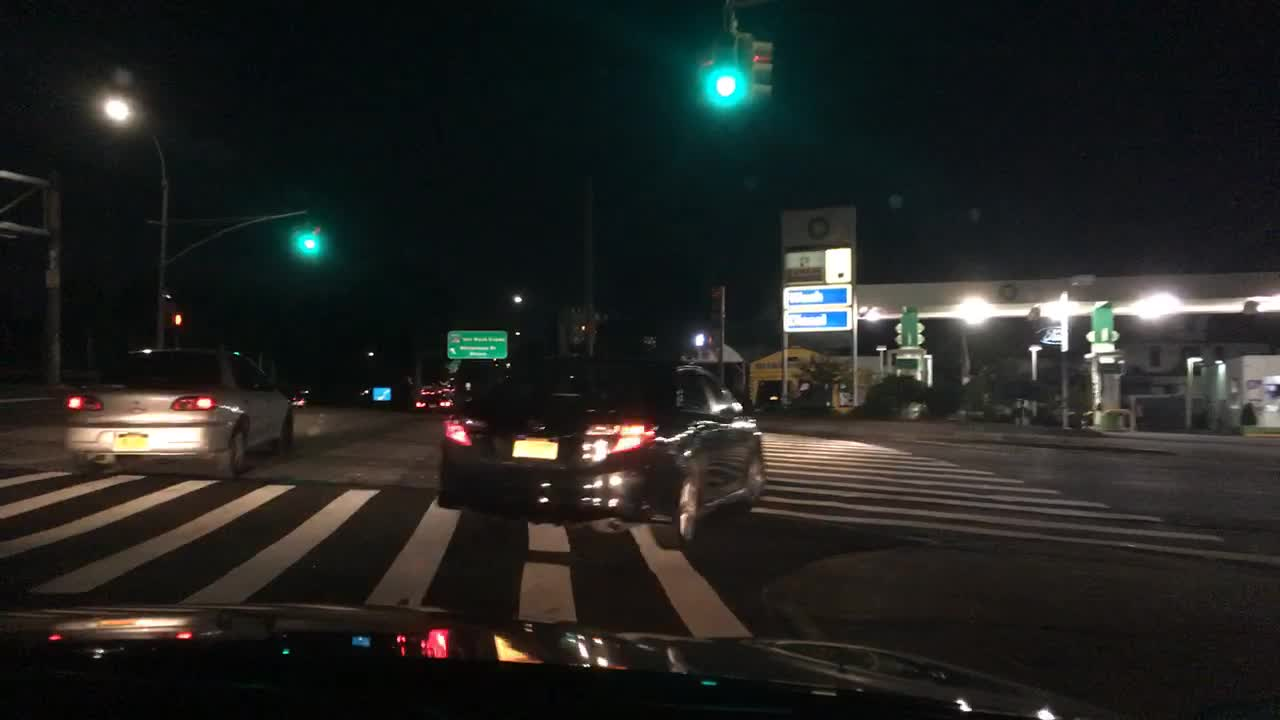car: (434, 354, 769, 549), (60, 344, 297, 477), (413, 381, 457, 417), (283, 386, 314, 406)
traffic light: (745, 41, 774, 104), (714, 45, 740, 97), (301, 229, 318, 251), (172, 313, 183, 328)
traffic sign: (447, 329, 508, 359), (45, 268, 62, 288), (372, 387, 392, 400)
